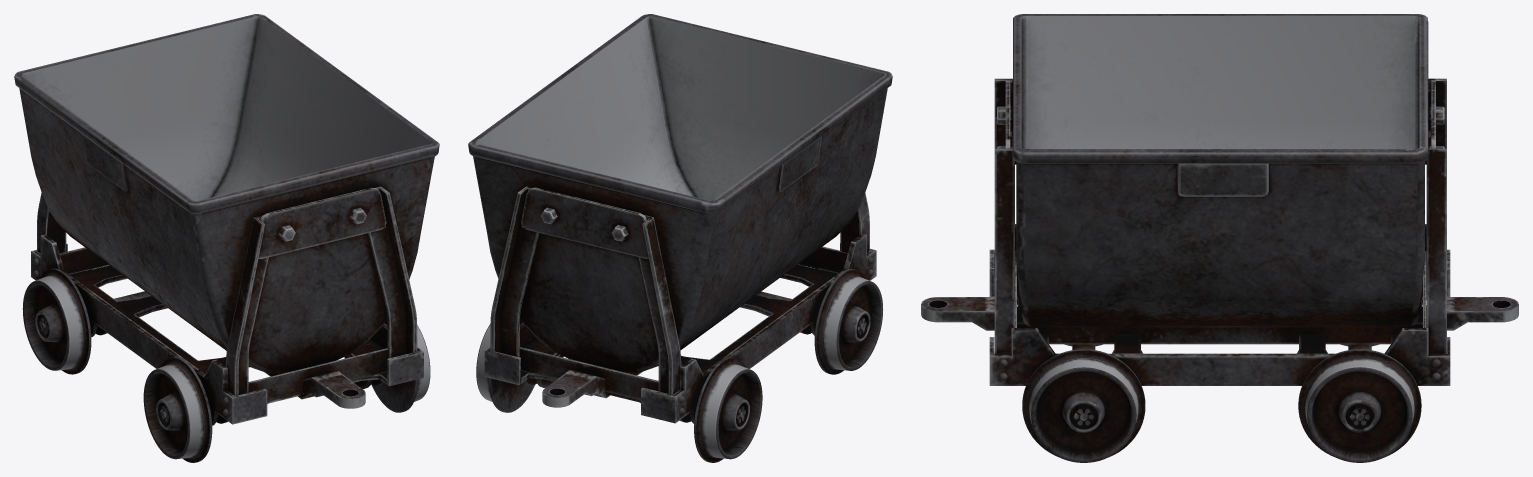
Rendered from mine_car.glb.
3 renders of one model, left to right at view 1: azimuth 30°, elevation 25°; view 2: azimuth 150°, elevation 25°; view 3: azimuth 270°, elevation 25°, orthographic. The views are drawn at different scales.
Parts seen in each view (by area): view 1: defaultMaterial; view 2: defaultMaterial; view 3: defaultMaterial.
Boxes of the visible parts, <box> form: defaultMaterial: <box>14,14,439,462</box>; defaultMaterial: <box>468,14,892,462</box>; defaultMaterial: <box>921,14,1518,462</box>.
Size of the model in its own units: 1.11 by 1.19 by 2.
Materials: 1 (1 with a texture image).
